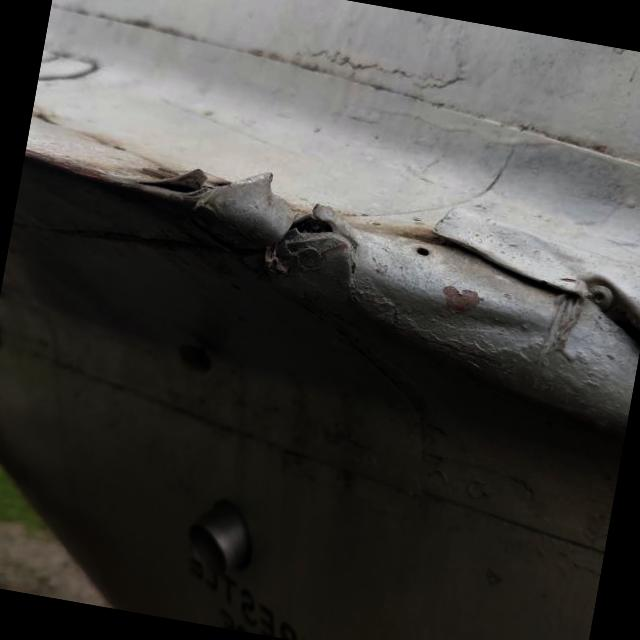crack: (120, 136, 275, 224), (272, 184, 350, 258)
